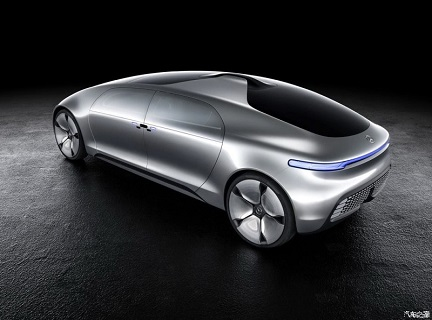奔驰-F015: (45, 56, 399, 254)
